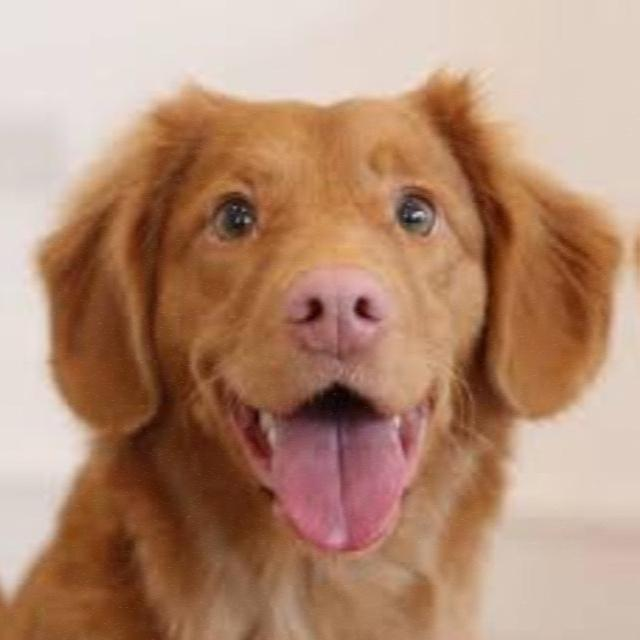dog: (11, 3, 614, 640), (0, 3, 11, 640)
